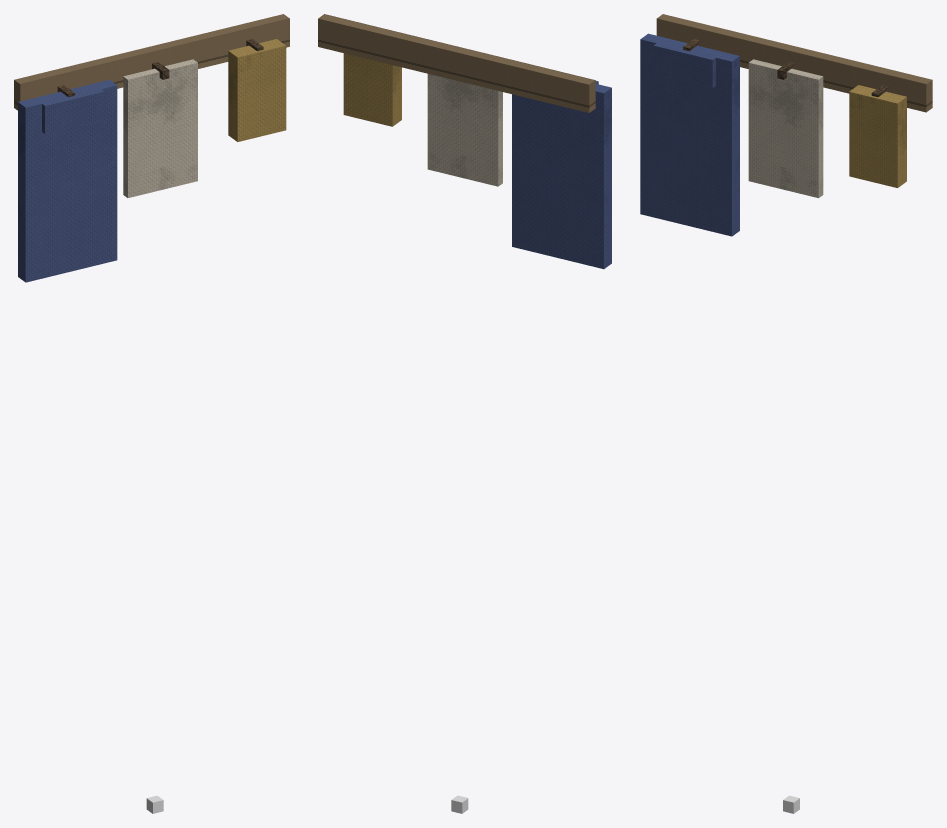
Rendered from clothes_hooks.glb.
3 renders of one model, left to right at view 1: azimuth 30°, elevation 25°; view 2: azimuth 150°, elevation 25°; view 3: azimuth 330°, elevation 25°, orthographic.
Visible parts, largest first — view 1: clothes_hooks; view 2: clothes_hooks; view 3: clothes_hooks.
Part boxes in pixels (<box>): clothes_hooks: <box>14,14,289,282</box>; clothes_hooks: <box>318,14,611,269</box>; clothes_hooks: <box>640,14,932,236</box>.
Bounding box in the file's own units: 1.02 × 2.69 × 0.13.
5 materials, 5 textured.
